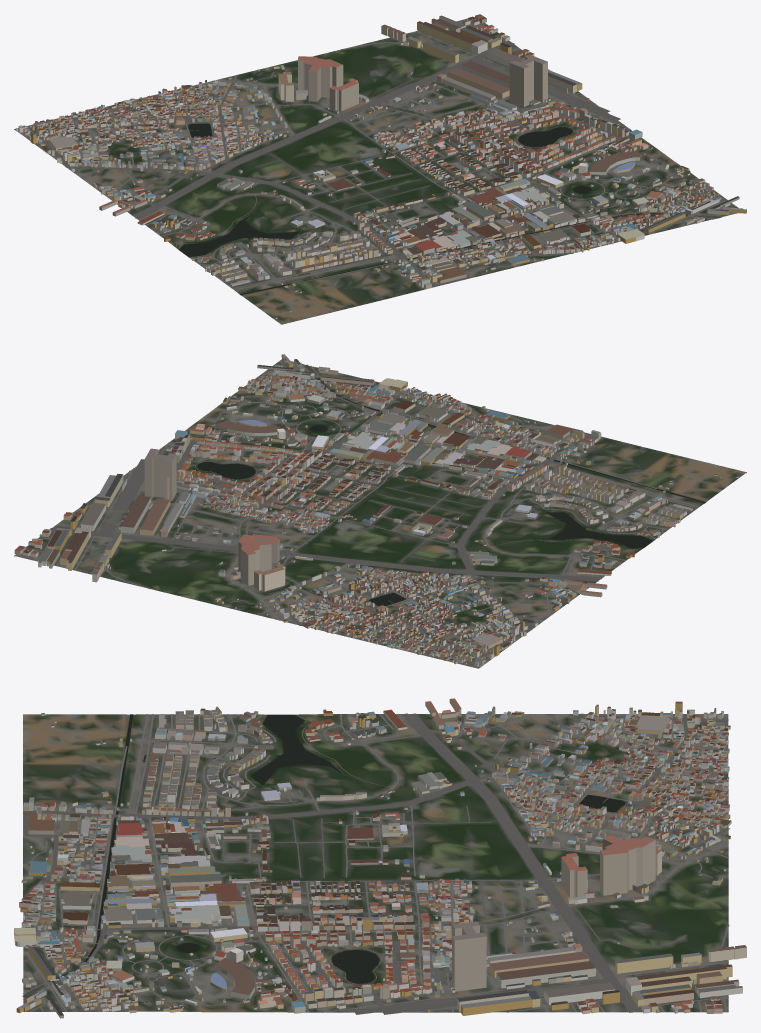
The picture shows the model from 3 angles, top to bottom: view 1: azimuth 30°, elevation 25°; view 2: azimuth 150°, elevation 25°; view 3: azimuth 270°, elevation 25°; orthographic projection. The views are drawn at different scales.
Parts seen in each view (by area): view 1: buildings, ground, roads, water; view 2: ground, buildings, roads, water; view 3: ground, buildings, roads, water.
Boxes of the visible parts, box(x1,y1,x2,y2) form: buildings: box(15, 14, 746, 319); ground: box(14, 17, 737, 324); roads: box(14, 17, 735, 290); water: box(179, 123, 719, 294); ground: box(14, 359, 746, 668); buildings: box(14, 354, 738, 667); roads: box(15, 361, 699, 668); water: box(197, 364, 705, 606); ground: box(23, 714, 728, 1012); buildings: box(14, 698, 746, 1018); roads: box(21, 713, 729, 1014); water: box(22, 714, 625, 996).
Size of the model in its own units: 1487 by 115 by 1457.
